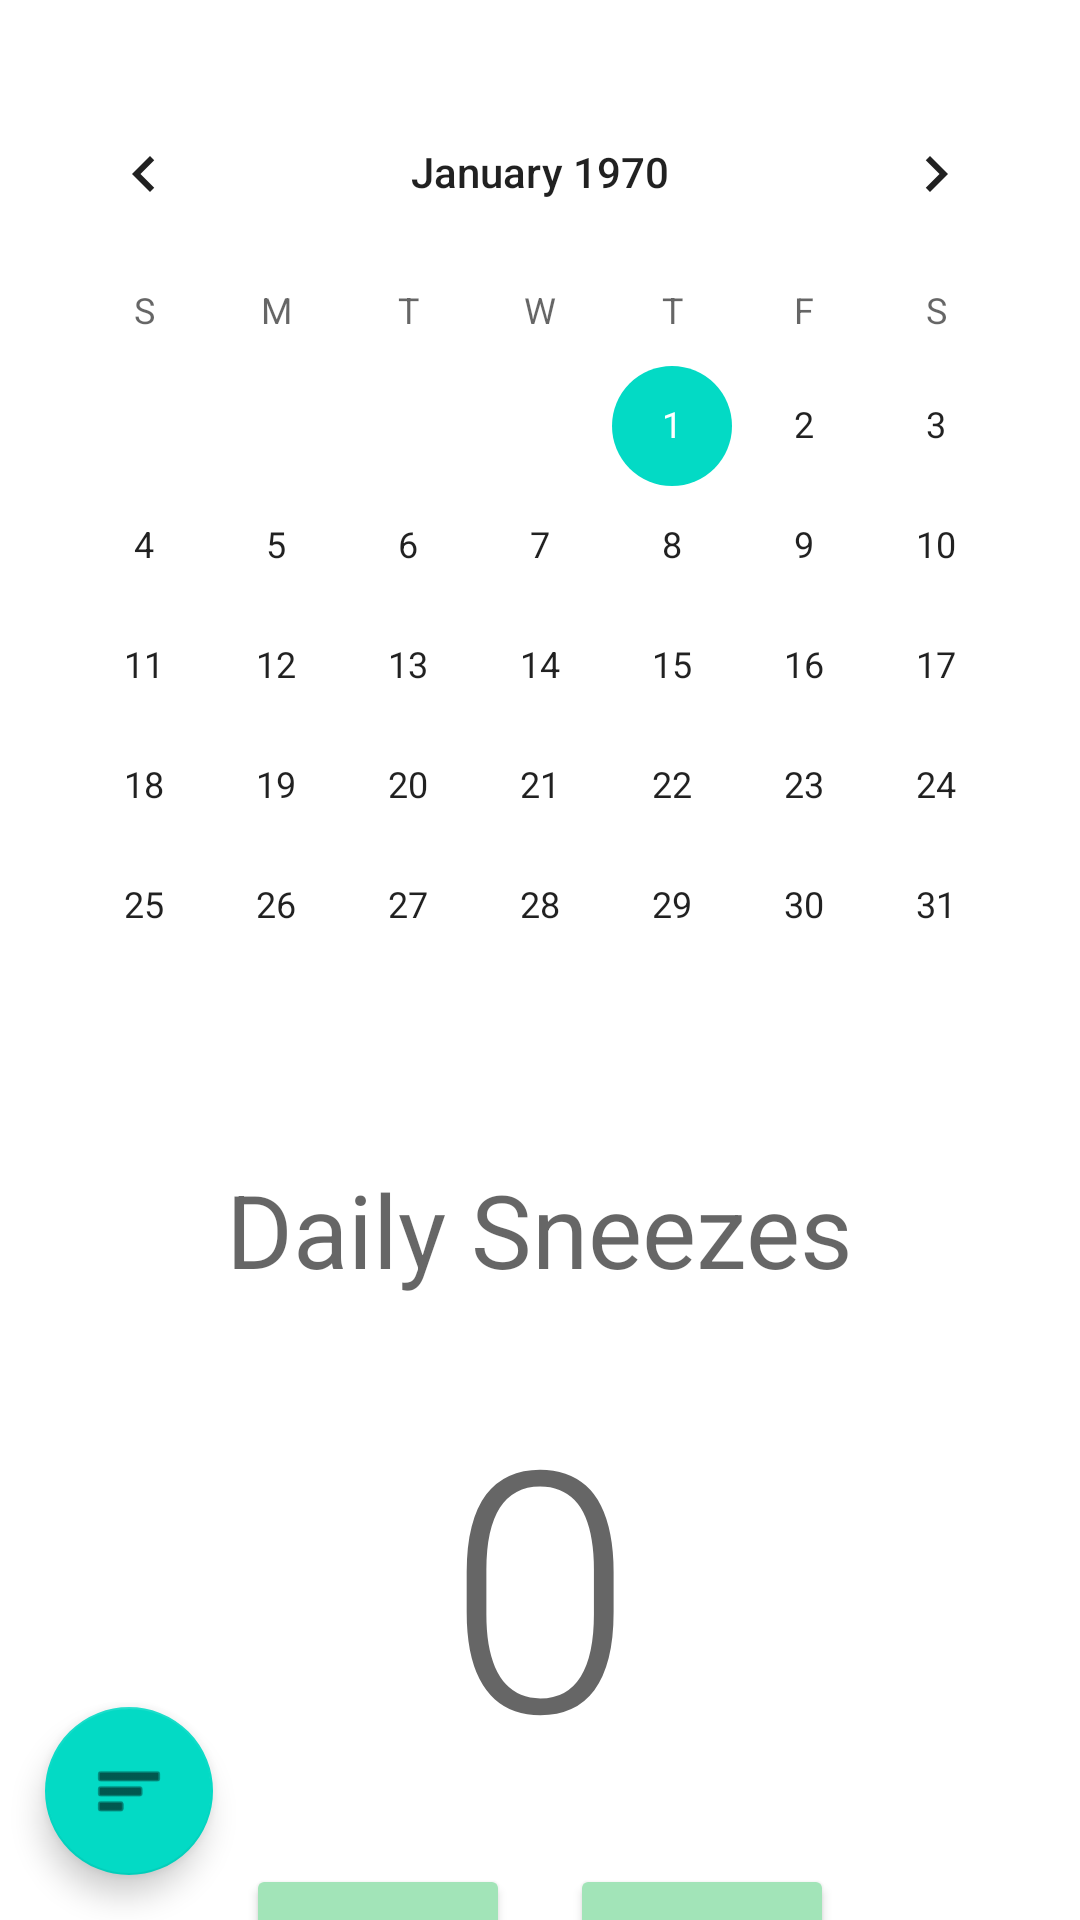

Icon click points for this 1080w x 1920h phone screenshot, format point (x, y):
sort by size: point (129, 1791)
